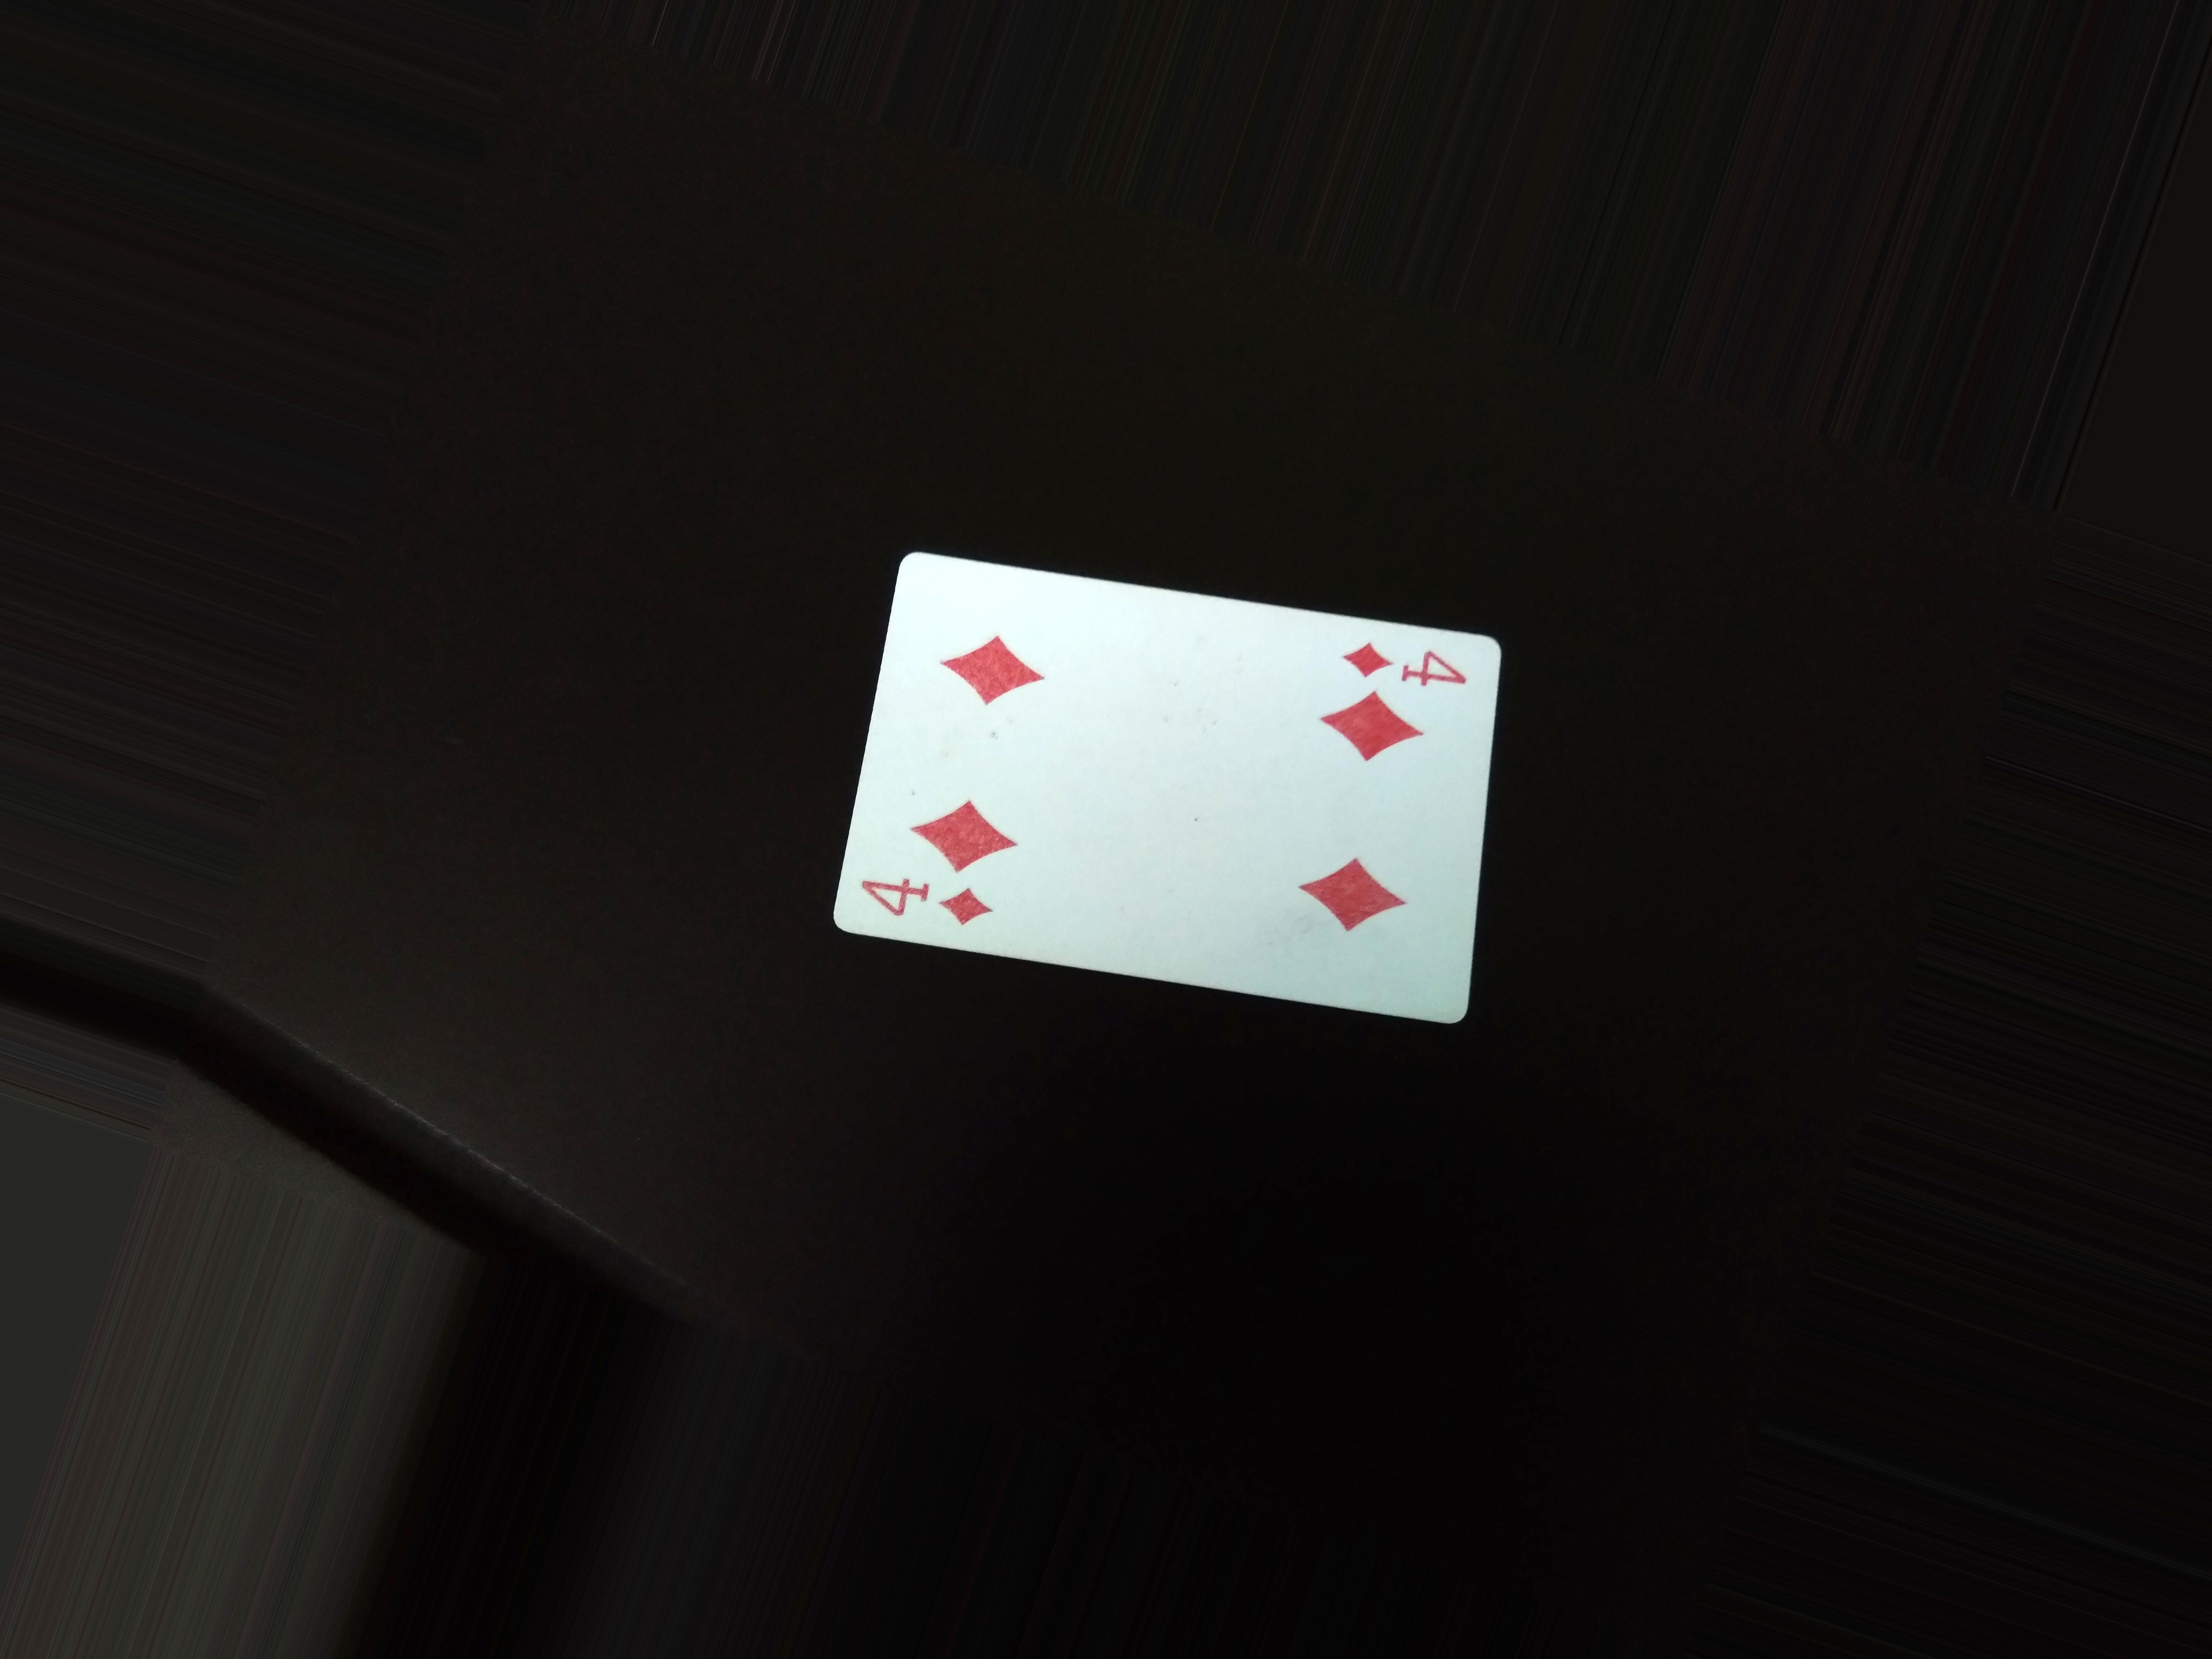4D: (1327, 631, 1482, 704)
